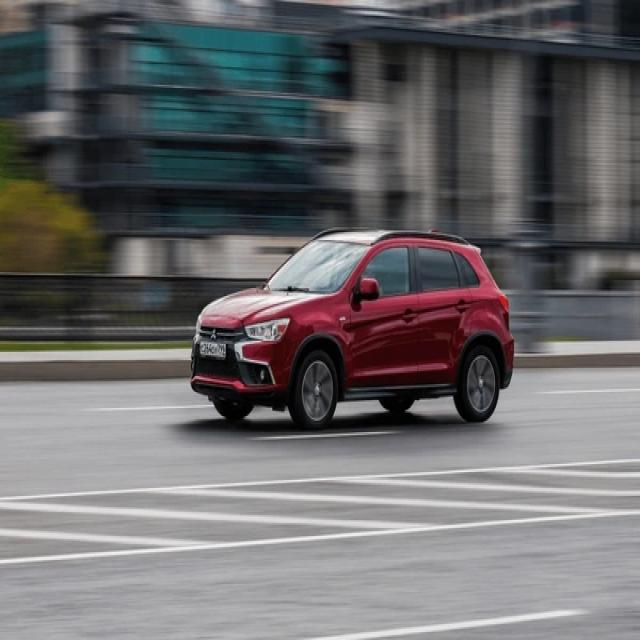mitsubishi: (206, 328, 222, 341)
